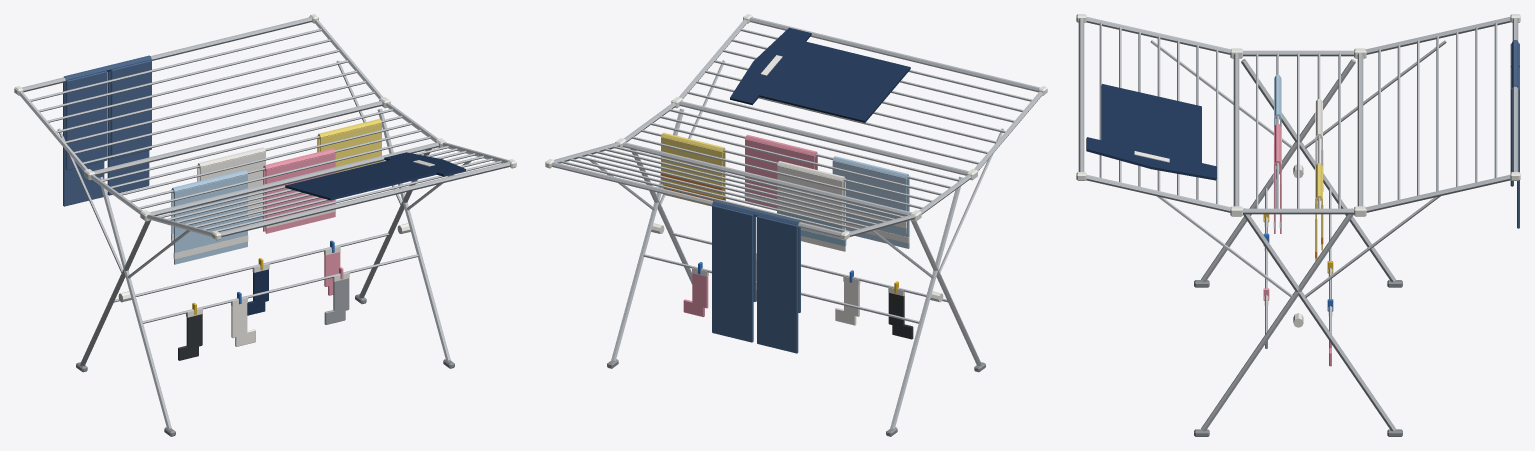
File: SC_Home_Laundry_Rack_Clothes.gltf
3 renders of one model, left to right at view 1: azimuth 30°, elevation 25°; view 2: azimuth 150°, elevation 25°; view 3: azimuth 270°, elevation 25°, orthographic. The views are drawn at different scales.
Visible parts, largest first — view 1: SC_Home_Laundry_Rack_Clothes; view 2: SC_Home_Laundry_Rack_Clothes; view 3: SC_Home_Laundry_Rack_Clothes.
Boxes of the visible parts, bbox=[...] form: SC_Home_Laundry_Rack_Clothes: bbox=[14, 14, 516, 436]; SC_Home_Laundry_Rack_Clothes: bbox=[545, 14, 1047, 436]; SC_Home_Laundry_Rack_Clothes: bbox=[1076, 14, 1520, 436].
Bounding box in the file's own units: 1.48 × 1.15 × 1.72.
Materials: 1 (1 with a texture image).
